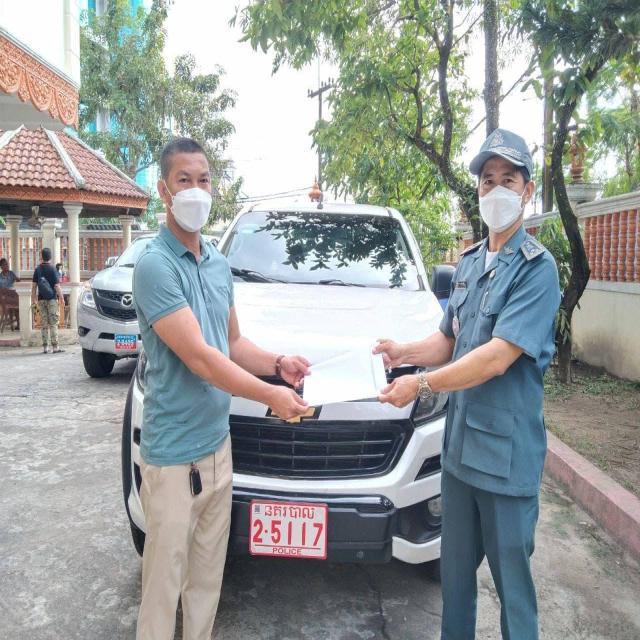Police: (265, 505, 315, 520)
